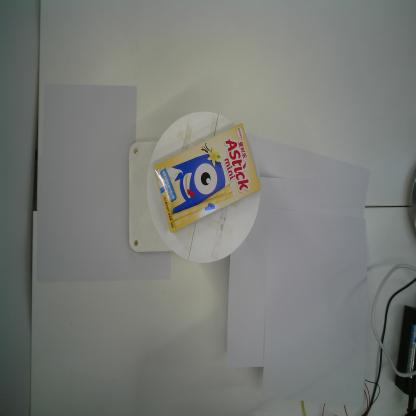Dessert: (154, 122, 262, 234)
